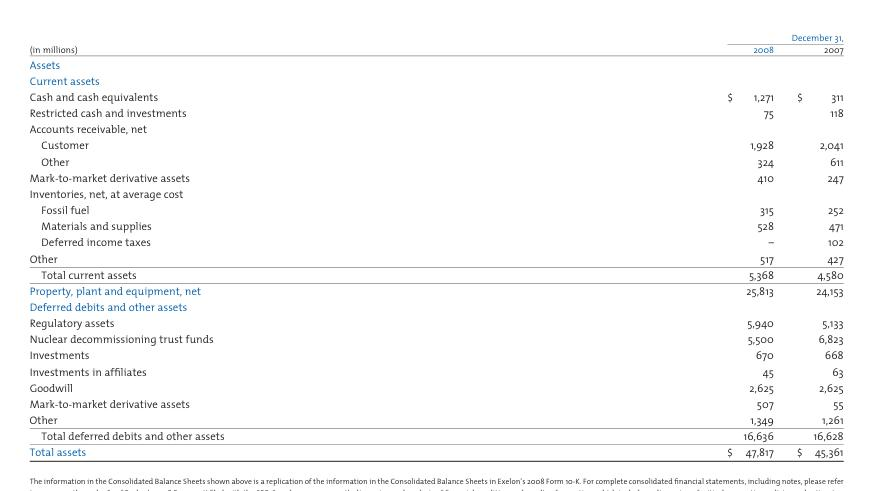table: (28, 29, 842, 460)
table column: (28, 29, 474, 460), (474, 29, 784, 460), (784, 29, 842, 460)
table column header: (28, 29, 842, 55)
table projected row header: (28, 297, 842, 314), (28, 55, 842, 71), (28, 71, 842, 87), (28, 120, 842, 136), (28, 184, 842, 200)
table row: (28, 103, 842, 120), (28, 200, 842, 217), (28, 297, 842, 314), (28, 410, 842, 427), (28, 443, 842, 460), (28, 55, 842, 71), (28, 71, 842, 87), (28, 87, 842, 103), (28, 120, 842, 136), (28, 136, 842, 152), (28, 152, 842, 168), (28, 168, 842, 184), (28, 184, 842, 200), (28, 217, 842, 233), (28, 233, 842, 249), (28, 249, 842, 265), (28, 265, 842, 281), (28, 281, 842, 297), (28, 314, 842, 330), (28, 330, 842, 346), (28, 346, 842, 362), (28, 362, 842, 378), (28, 378, 842, 394), (28, 394, 842, 410), (28, 427, 842, 443), (28, 29, 842, 42), (28, 42, 842, 55)
table spanning cell: (28, 29, 474, 55), (474, 29, 842, 42)
